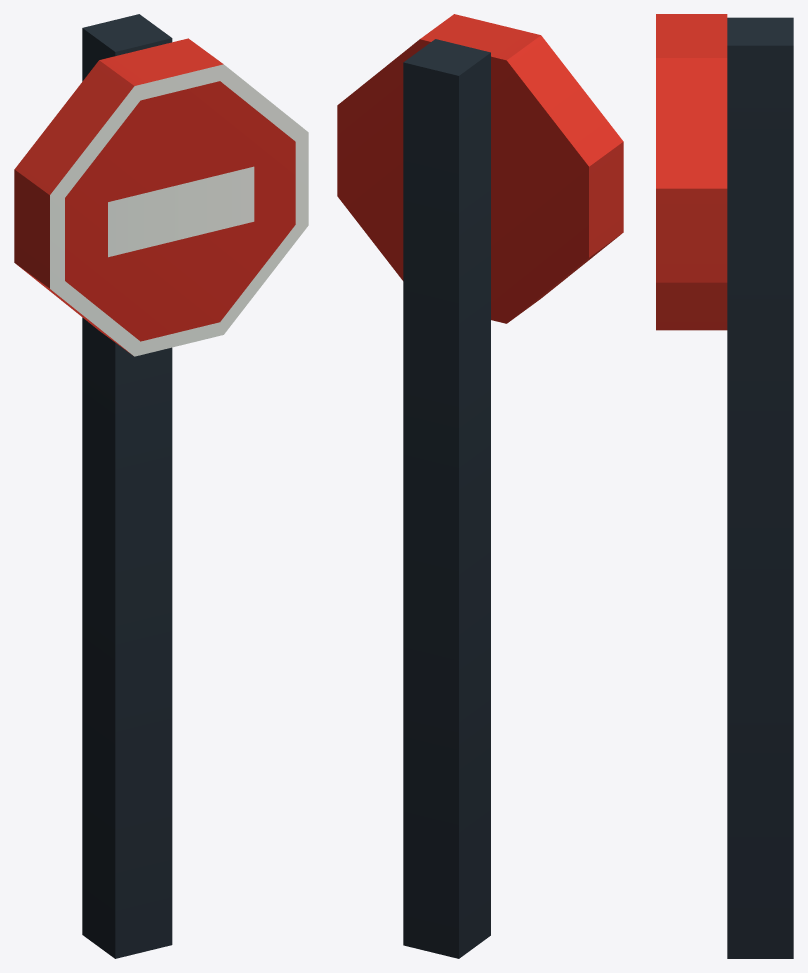
The model's file is Road_sign_4.fbx.
3 renders of one model, left to right at view 1: azimuth 30°, elevation 25°; view 2: azimuth 150°, elevation 25°; view 3: azimuth 270°, elevation 25°, orthographic. The views are drawn at different scales.
Visible parts, largest first — view 1: Road_sign_4; view 2: Road_sign_4; view 3: Road_sign_4.
Boxes of the visible parts, x1,y1,x2,y2 form: Road_sign_4: (14, 14, 308, 958); Road_sign_4: (337, 14, 623, 958); Road_sign_4: (656, 14, 793, 958).
Bounding box in the file's own units: 107 × 359 × 50.48.
